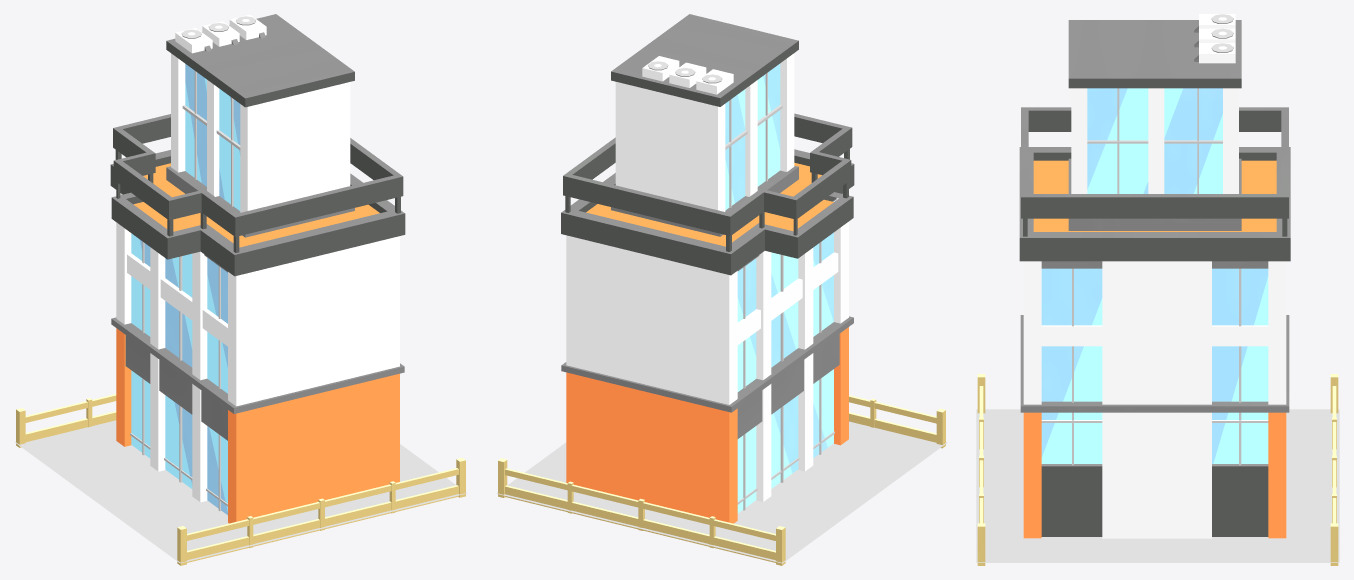
The picture shows the model from 3 angles, left to right: view 1: azimuth 30°, elevation 25°; view 2: azimuth 150°, elevation 25°; view 3: azimuth 270°, elevation 25°; orthographic projection. The views are drawn at different scales.
Parts seen in each view (by area): view 1: hotel.003 (3), tile_for_home_1x1.016 (7); view 2: hotel.003 (3), tile_for_home_1x1.016 (7); view 3: hotel.003 (3), tile_for_home_1x1.016 (7).
Boxes of the visible parts, bbox=[...] form: hotel.003 (3): bbox=[110, 14, 405, 523]; tile_for_home_1x1.016 (7): bbox=[14, 394, 467, 565]; hotel.003 (3): bbox=[561, 14, 854, 523]; tile_for_home_1x1.016 (7): bbox=[496, 395, 947, 565]; hotel.003 (3): bbox=[1019, 14, 1290, 538]; tile_for_home_1x1.016 (7): bbox=[976, 374, 1339, 565].
Bounding box in the file's own units: 8 × 11.18 × 8.
1 material, 1 textured.
